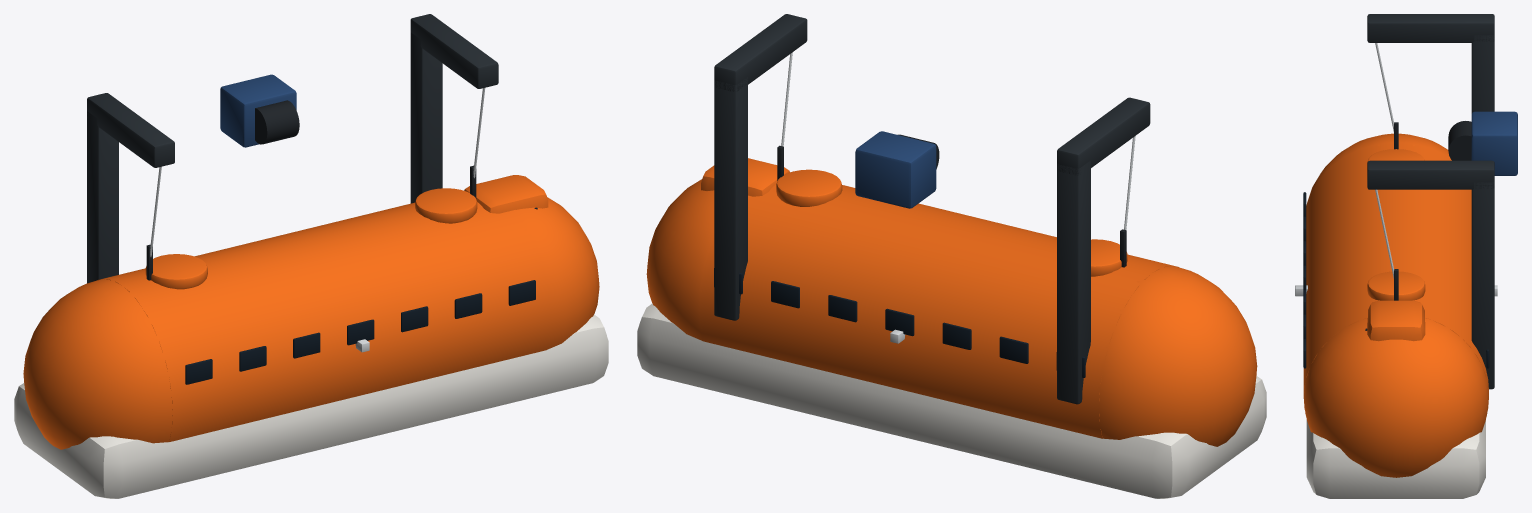
File: lifeboat.glb
The picture shows the model from 3 angles, left to right: view 1: azimuth 30°, elevation 25°; view 2: azimuth 150°, elevation 25°; view 3: azimuth 270°, elevation 25°; orthographic projection. The views are drawn at different scales.
Parts seen in each view (by area): view 1: boat, davit; view 2: boat, davit; view 3: boat, davit.
Boxes of the visible parts, box(x1,y1,x2,y2) form: boat: box(14, 165, 608, 498); davit: box(87, 14, 498, 283); boat: box(637, 145, 1266, 498); davit: box(714, 14, 1150, 404); boat: box(1295, 122, 1497, 498); davit: box(1367, 14, 1517, 389).
Size of the model in its own units: 10.2 by 5.8 by 3.85.
